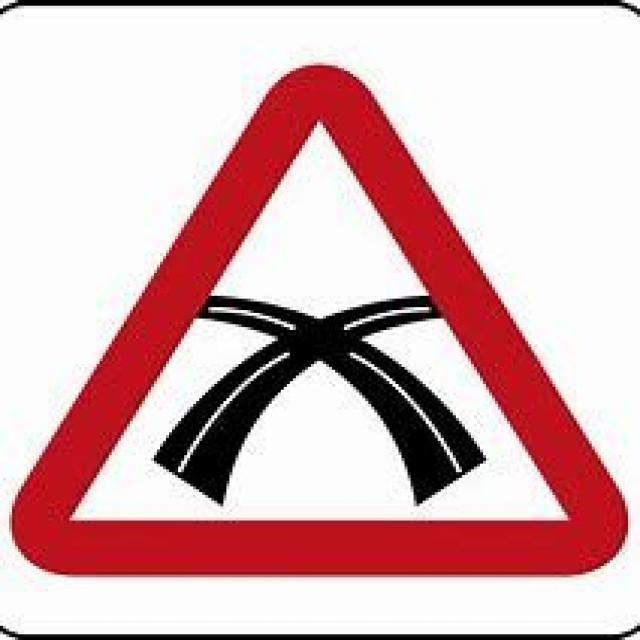CROSS_ROAD: (9, 62, 625, 594)
